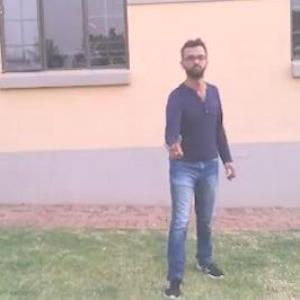takeoff-hand: (158, 129, 188, 159)
